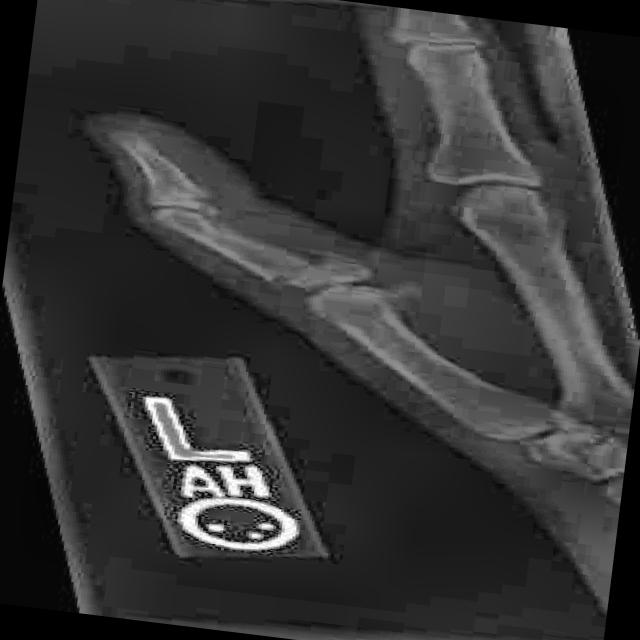fingers positive: (220, 229, 424, 313)
